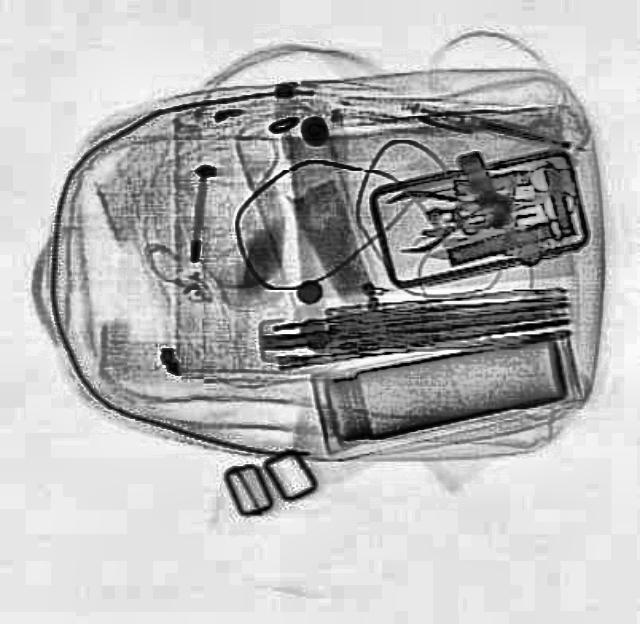Pliers: (379, 165, 513, 255)
Scissors: (474, 155, 582, 242)
